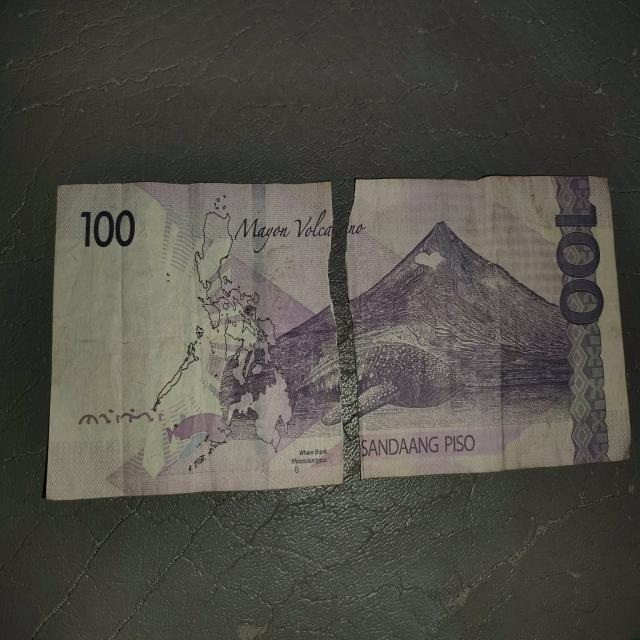broken: (49, 174, 633, 506)
torn: (320, 162, 373, 500)
